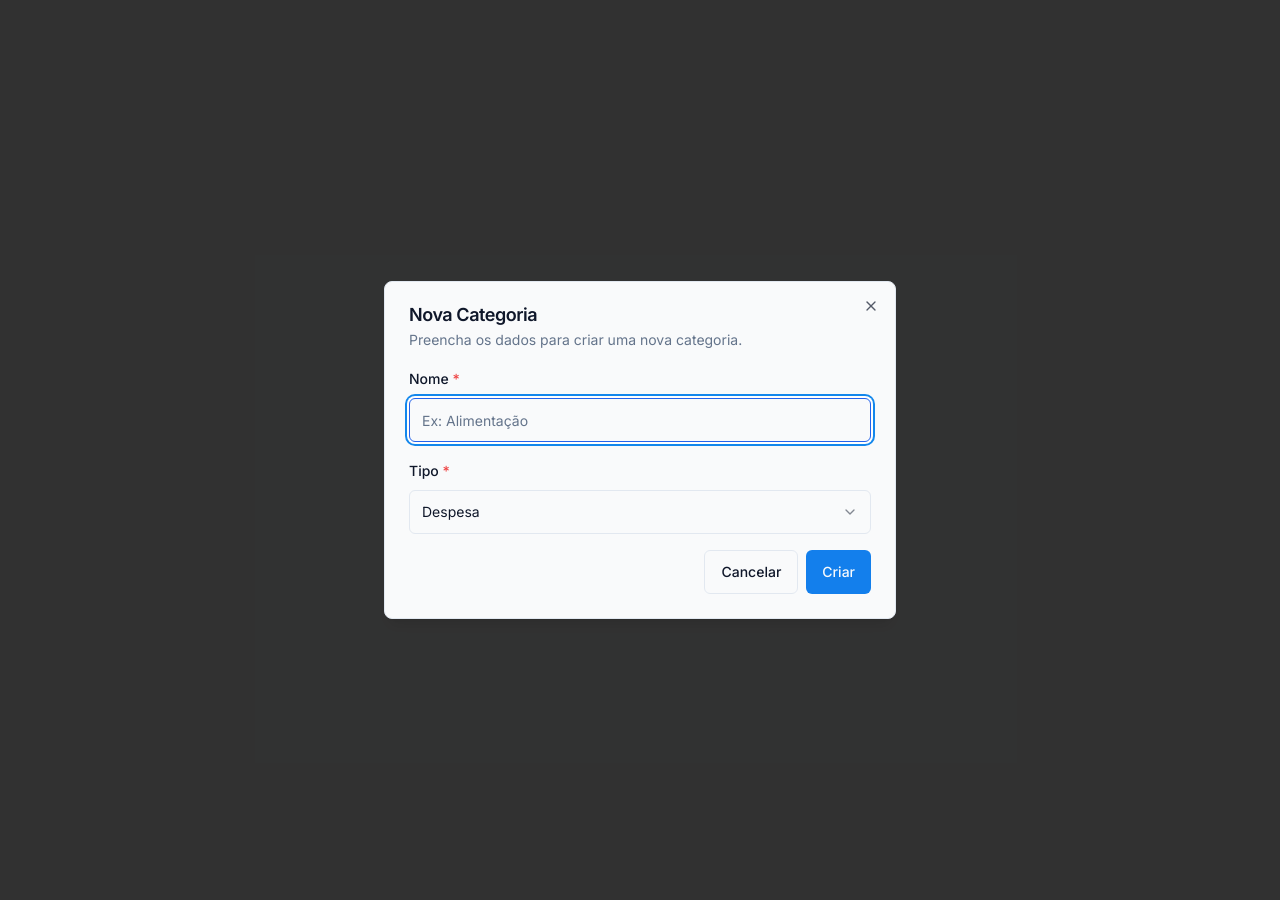
Test: CategoryForm › validates name field with minimum length
Step 1. Type "A" into the field labelled "Nome *" → (640,420), box left=409, top=398, right=871, bottom=442
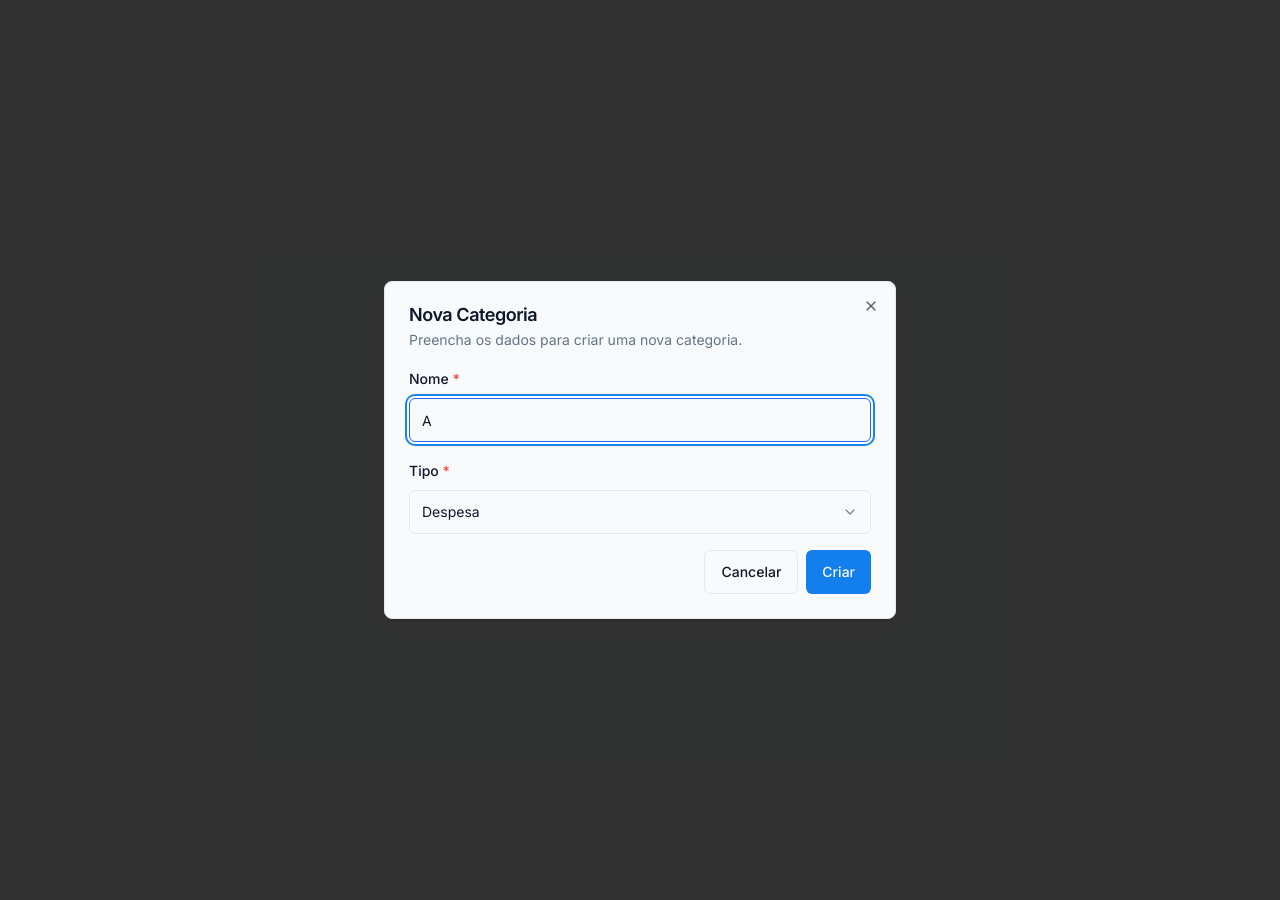
Step 2. Click the button "Criar" → (839,572), box left=806, top=550, right=871, bottom=594
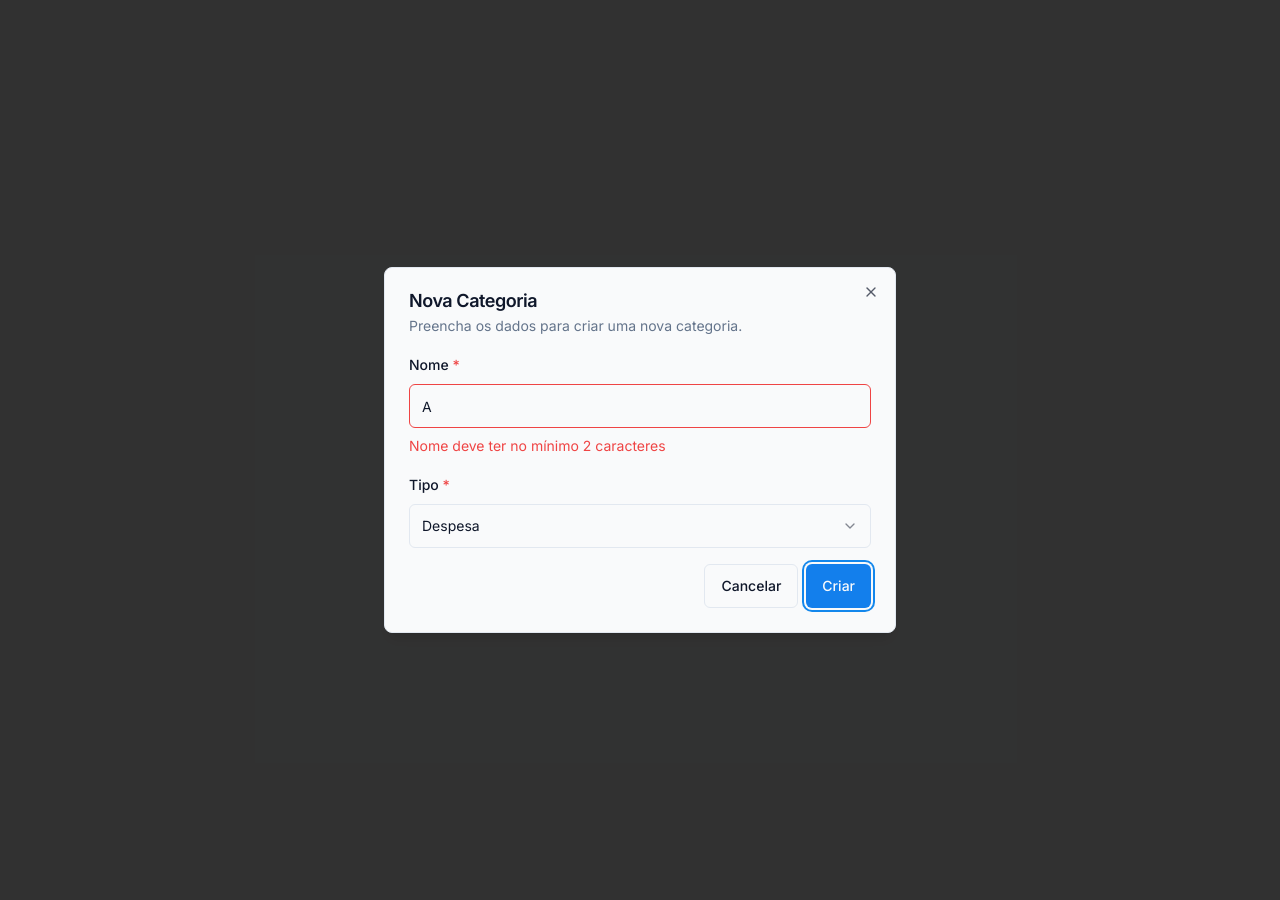
Now the text "Nome deve ter no mínimo 2 caracteres" is shown, box left=409, top=437, right=666, bottom=454
